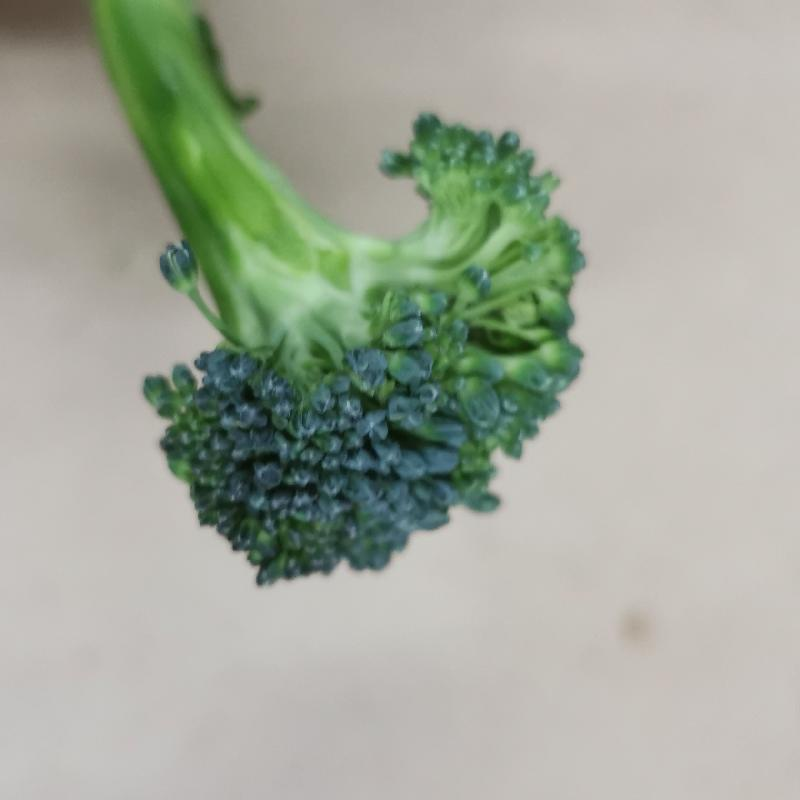broccoli: (74, 0, 593, 596)
